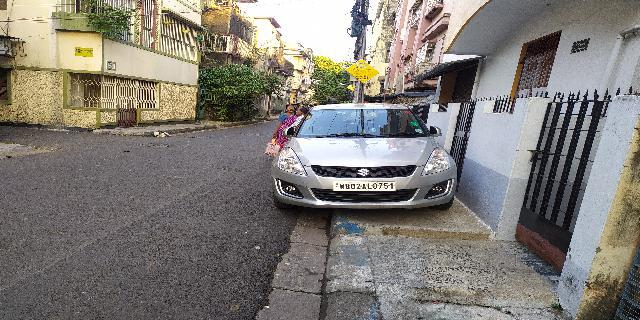Car: (268, 98, 464, 217)
